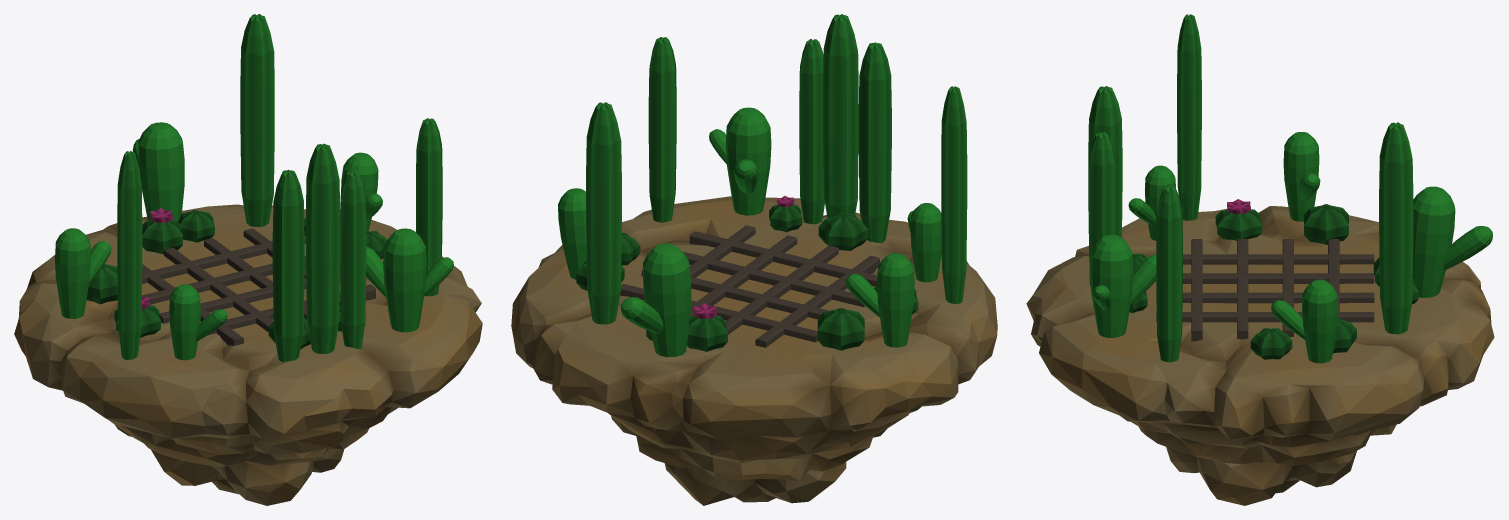
The model's file is 5x5desert (2).fbx.
The picture shows the model from 3 angles, left to right: view 1: azimuth 30°, elevation 25°; view 2: azimuth 150°, elevation 25°; view 3: azimuth 270°, elevation 25°; orthographic projection. The views are drawn at different scales.
Visible parts, largest first — view 1: Sphere.005; view 2: Sphere.005; view 3: Sphere.005.
Boxes of the visible parts, left/top/right/bottom form: Sphere.005: left=14, top=14, right=482, bottom=505; Sphere.005: left=511, top=14, right=997, bottom=505; Sphere.005: left=1026, top=14, right=1494, bottom=505.
Bounding box in the file's own units: 41.09 × 39.15 × 41.05.
